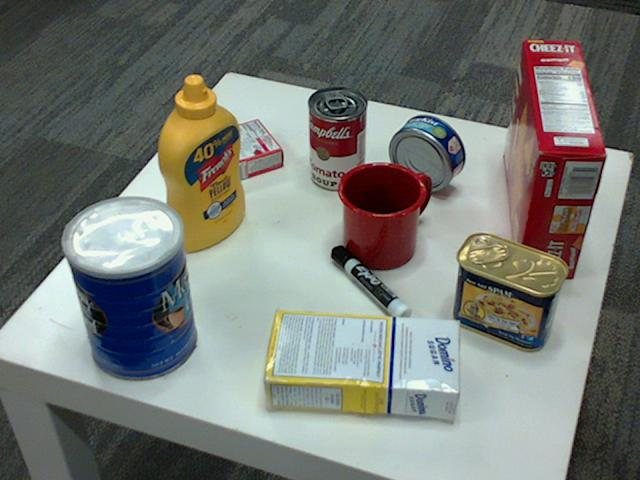cracker_box: (502, 38, 606, 276)
gelatin_box: (193, 115, 284, 183)
large_marker: (331, 246, 411, 327)
master_chef_can: (59, 197, 195, 382)
mug: (335, 160, 427, 267)
mustard_bottle: (156, 75, 245, 251)
potted_meat_can: (450, 232, 567, 351)
sugar_box: (257, 307, 457, 418)
tomato_soup_can: (307, 87, 367, 191)
tuna_fish_can: (387, 114, 463, 191)
